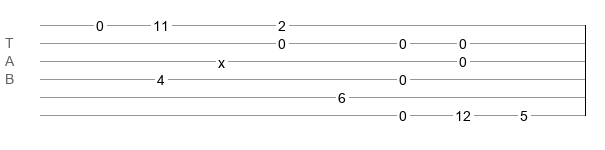0: (96, 18, 104, 28), (278, 36, 286, 46), (399, 36, 407, 46), (399, 108, 407, 118), (399, 72, 407, 82), (459, 54, 467, 64), (459, 36, 467, 46)
11: (153, 18, 169, 28)
12: (455, 108, 471, 118)
2: (278, 18, 286, 28)
4: (157, 72, 165, 82)
5: (520, 108, 528, 118)
6: (338, 90, 346, 100)
x: (218, 55, 225, 63)
